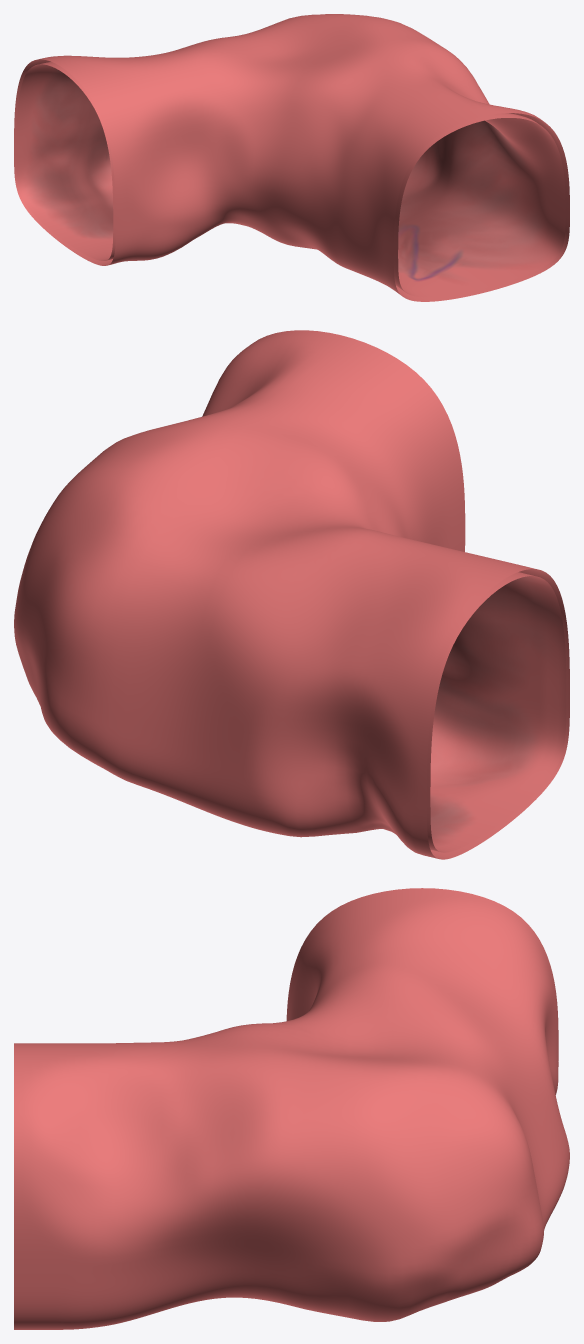
The model's file is cave_turn_left.fbx.
3 renders of one model, top to bottom at view 1: azimuth 30°, elevation 25°; view 2: azimuth 150°, elevation 25°; view 3: azimuth 270°, elevation 25°, orthographic. The views are drawn at different scales.
Parts seen in each view (by area): view 1: cave_turn_left.000; view 2: cave_turn_left.000; view 3: cave_turn_left.000.
Boxes of the visible parts, bbox=[...] form: cave_turn_left.000: bbox=[14, 14, 569, 301]; cave_turn_left.000: bbox=[14, 330, 569, 859]; cave_turn_left.000: bbox=[14, 888, 569, 1329].
Size of the model in its own units: 400 by 206 by 408.
Materials: 1 (1 with a texture image).
